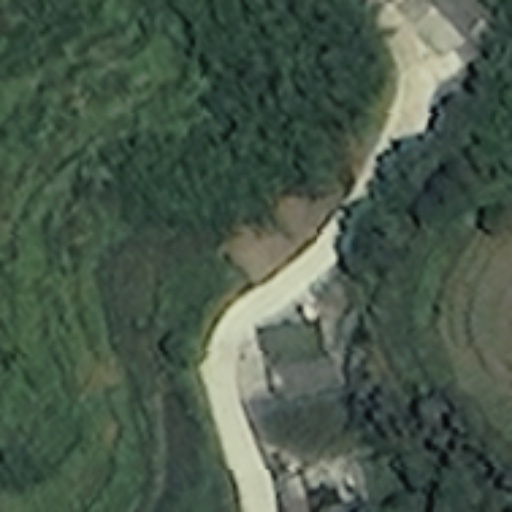landslide: (220, 193, 342, 286)
